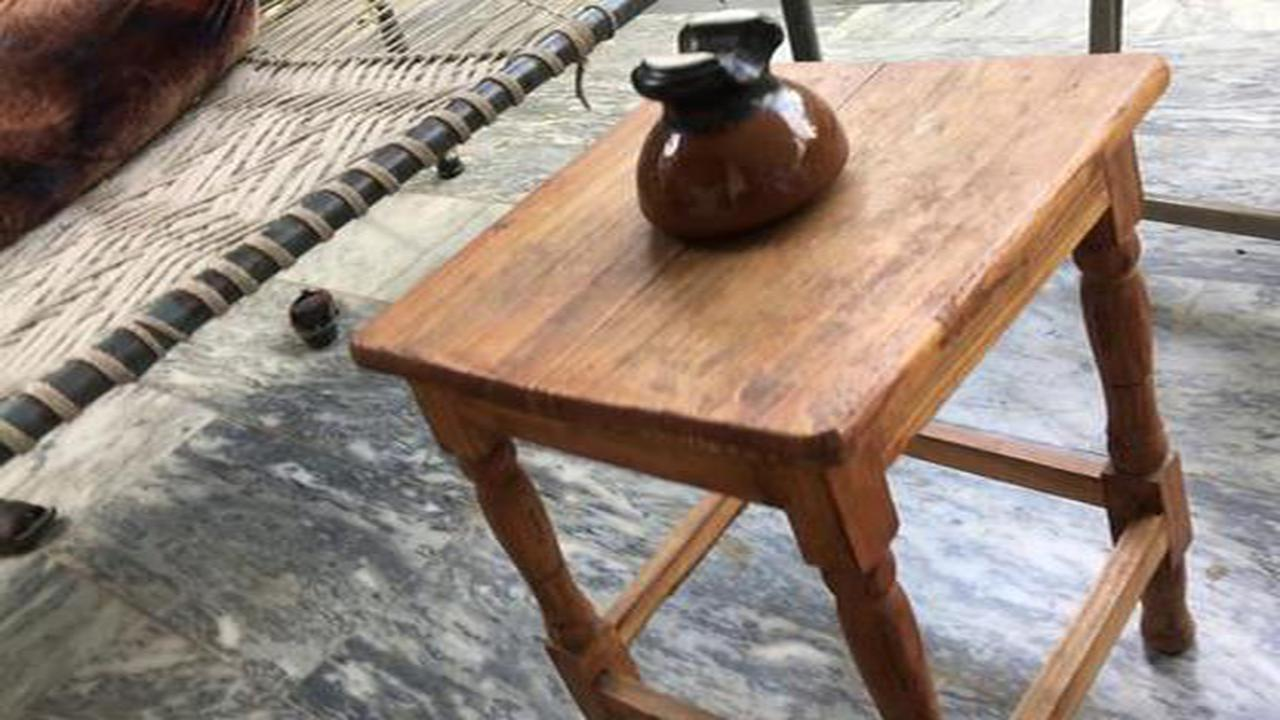insulator_pin: (619, 11, 877, 265)
